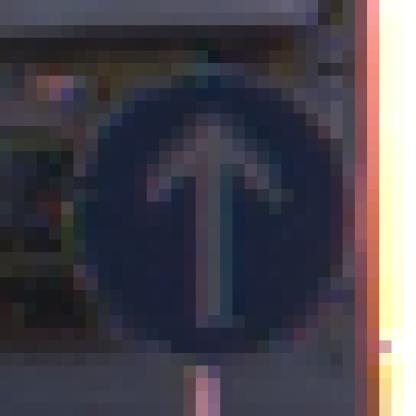AheadOnly: (62, 64, 344, 341)
